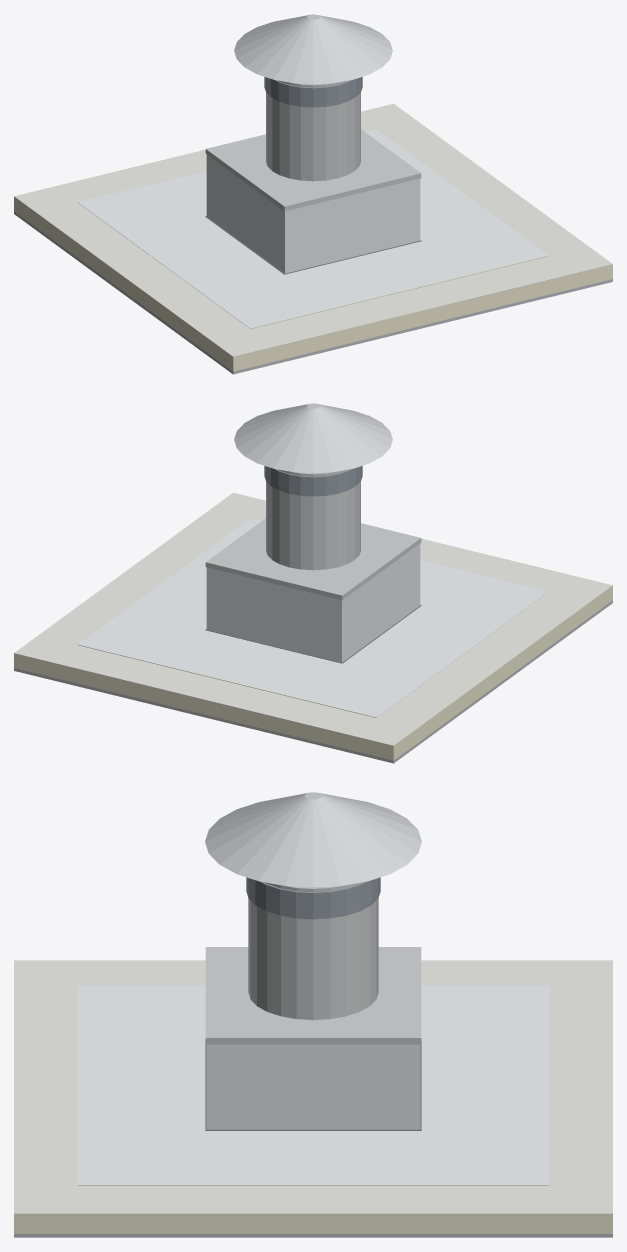
File: bin-vent-CS-1-TYP.glb
The picture shows the model from 3 angles, top to bottom: view 1: azimuth 30°, elevation 25°; view 2: azimuth 150°, elevation 25°; view 3: azimuth 270°, elevation 25°; orthographic projection. The views are drawn at different scales.
Visible parts, largest first — view 1: topcoat__field_apron, existing__membrane, topcoat__curb_wrap, existing__insulation, existing__unit_cap, existing__unit_neck, existing__unit_collar, topcoat__curb_cap, existing__steel_deck, existing__unit_screen; view 2: topcoat__field_apron, existing__membrane, topcoat__curb_wrap, existing__insulation, existing__unit_cap, existing__unit_neck, existing__unit_collar, topcoat__curb_cap, existing__steel_deck, existing__unit_screen; view 3: topcoat__field_apron, existing__membrane, existing__unit_cap, topcoat__curb_wrap, existing__unit_neck, existing__unit_collar, existing__insulation, topcoat__curb_cap, existing__unit_screen, existing__steel_deck.
Boxes of the visible parts, box(x1,y1,x2,y2) form: topcoat__field_apron: box(78, 129, 548, 328); existing__membrane: box(14, 103, 612, 357); topcoat__curb_wrap: box(206, 161, 420, 273); existing__insulation: box(14, 197, 612, 371); existing__unit_cap: box(234, 14, 392, 84); existing__unit_neck: box(266, 80, 360, 181); existing__unit_collar: box(205, 129, 421, 211); topcoat__curb_cap: box(206, 155, 420, 224); existing__steel_deck: box(14, 211, 612, 374); existing__unit_screen: box(264, 77, 362, 107); topcoat__field_apron: box(78, 518, 548, 717); existing__membrane: box(14, 492, 612, 746); topcoat__curb_wrap: box(206, 550, 420, 662); existing__insulation: box(14, 586, 612, 760); existing__unit_cap: box(234, 403, 392, 473); existing__unit_neck: box(266, 469, 360, 570); existing__unit_collar: box(205, 518, 421, 600); topcoat__curb_cap: box(206, 544, 420, 613); existing__steel_deck: box(14, 600, 612, 763); existing__unit_screen: box(264, 466, 362, 496); topcoat__field_apron: box(77, 985, 549, 1185); existing__membrane: box(14, 960, 612, 1214); existing__unit_cap: box(205, 792, 421, 887); topcoat__curb_wrap: box(206, 1057, 420, 1129); existing__unit_neck: box(248, 882, 378, 1019); existing__unit_collar: box(205, 947, 421, 1044); existing__insulation: box(14, 1214, 612, 1233); topcoat__curb_cap: box(206, 1044, 420, 1063); existing__unit_screen: box(246, 877, 380, 919); existing__steel_deck: box(14, 1234, 612, 1237).
Size of the model in its own units: 2.1 by 1.22 by 2.1.
